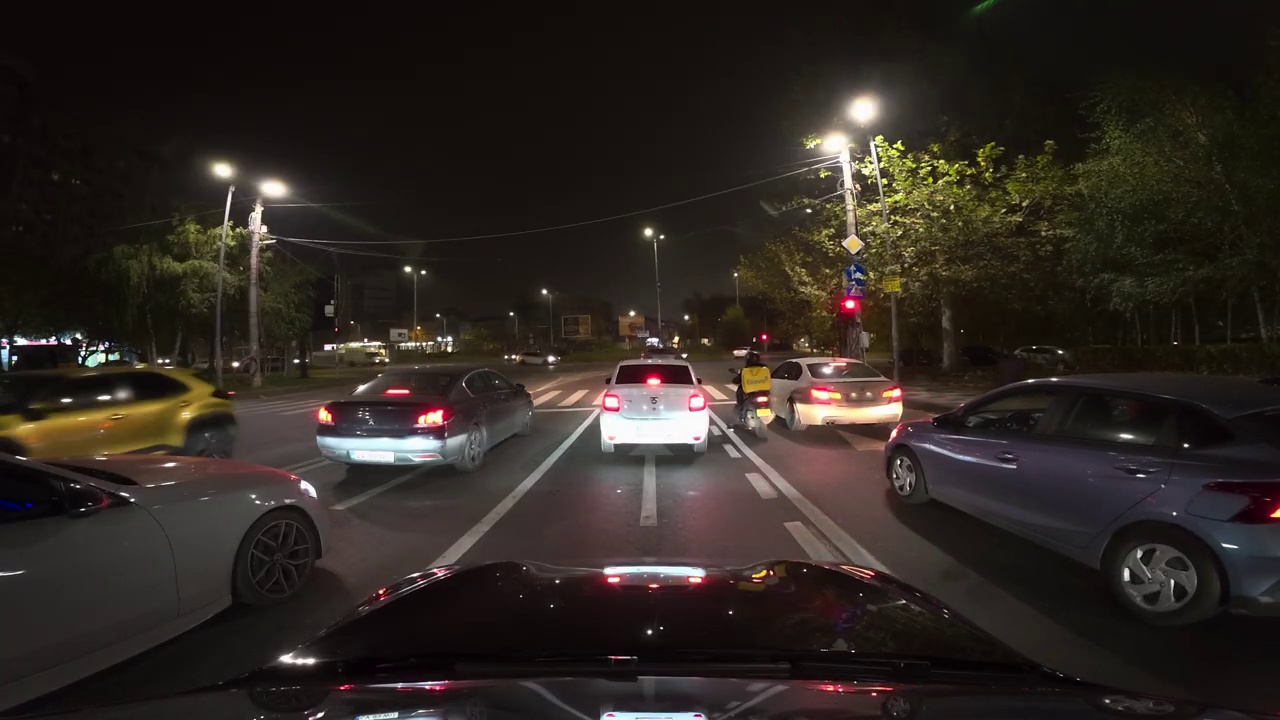acesa: (848, 96, 877, 124), (259, 177, 290, 201), (209, 158, 237, 184), (639, 223, 660, 246)
